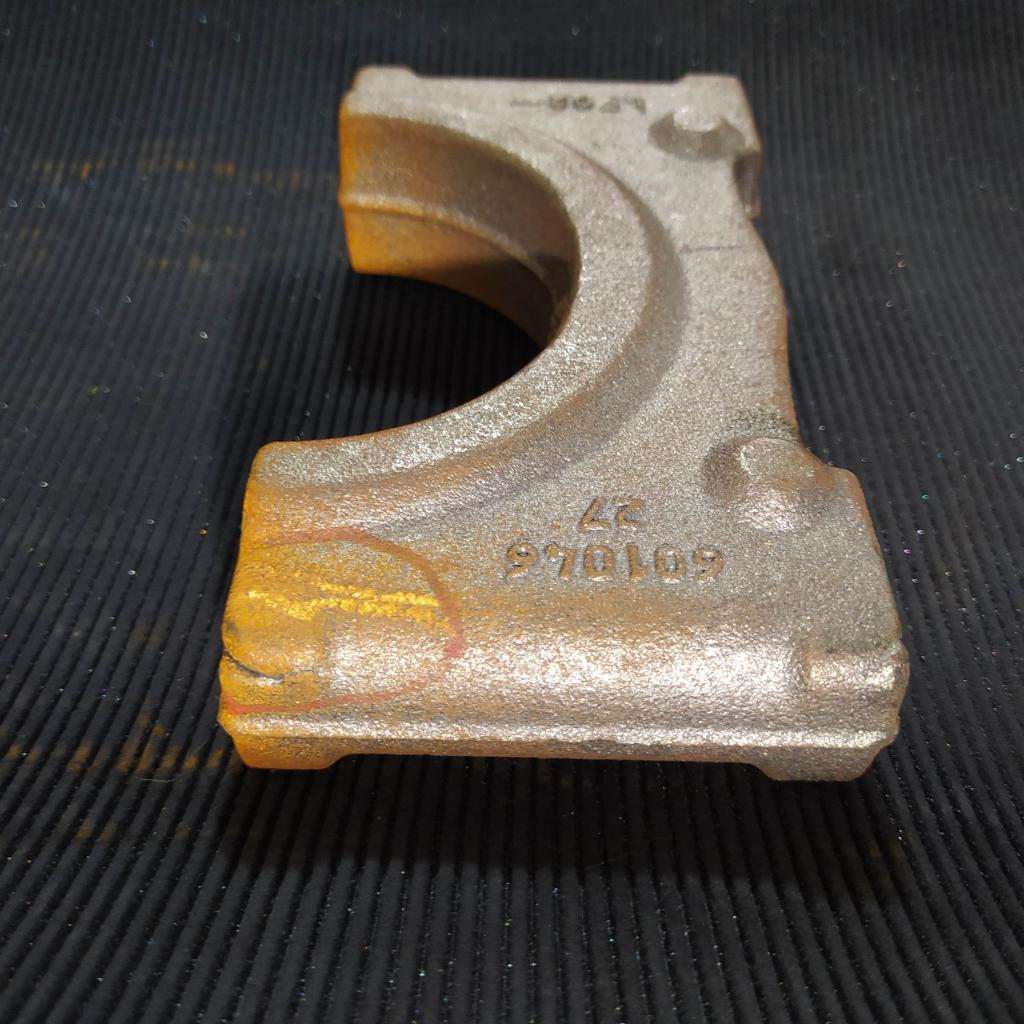rechupe: (217, 637, 292, 685)
